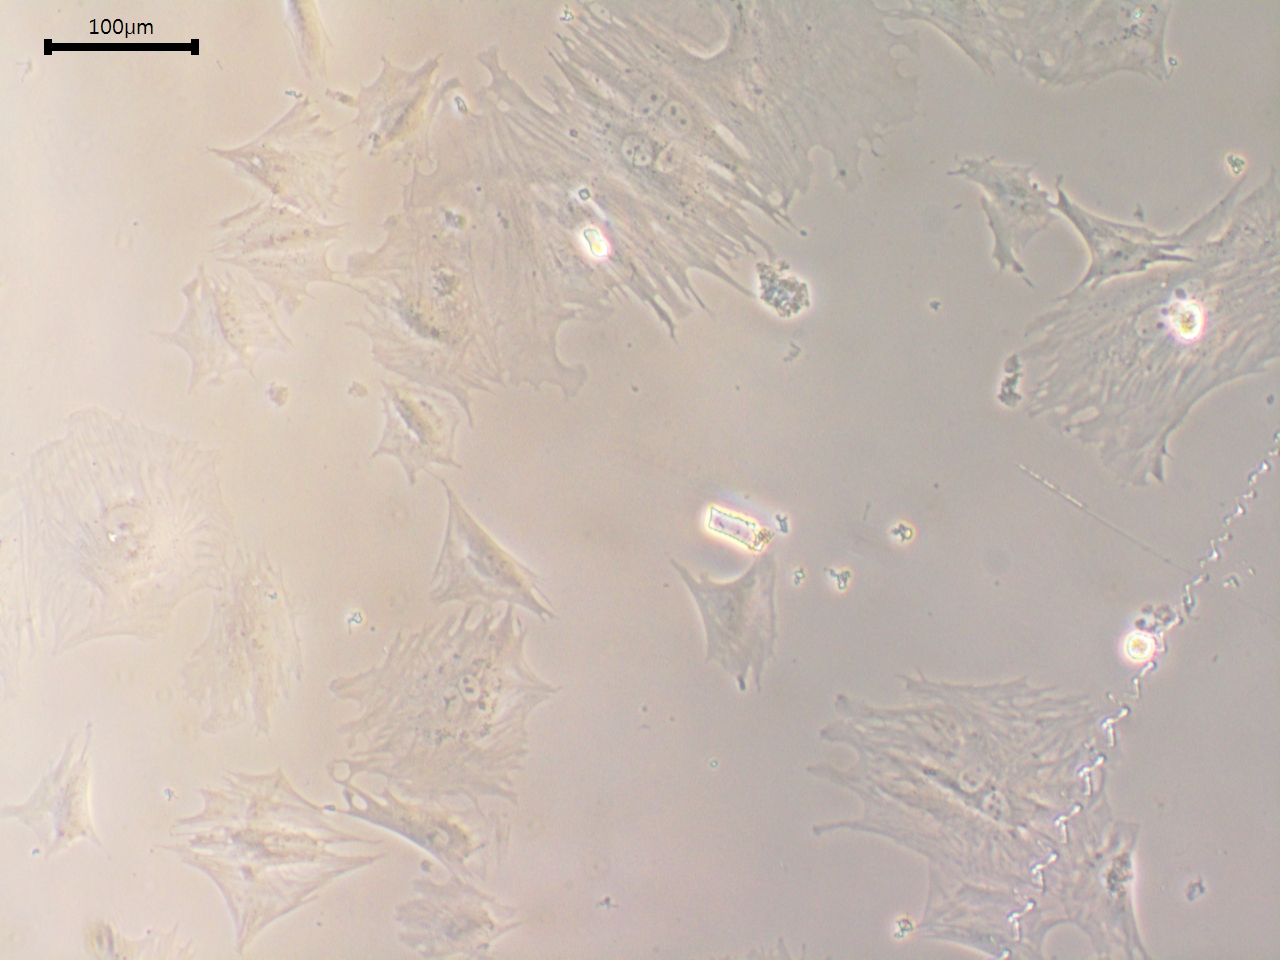dividing: (487, 29, 923, 288), (818, 662, 1147, 928), (327, 607, 562, 826)
medium-polygonal: (1043, 186, 1217, 299), (334, 781, 504, 888), (3, 719, 105, 885)
medium-spread: (174, 759, 365, 956), (177, 560, 316, 740), (657, 551, 805, 716), (406, 483, 556, 623), (147, 267, 300, 382), (204, 94, 338, 222), (365, 376, 497, 486), (336, 45, 443, 173), (959, 130, 1054, 268)
